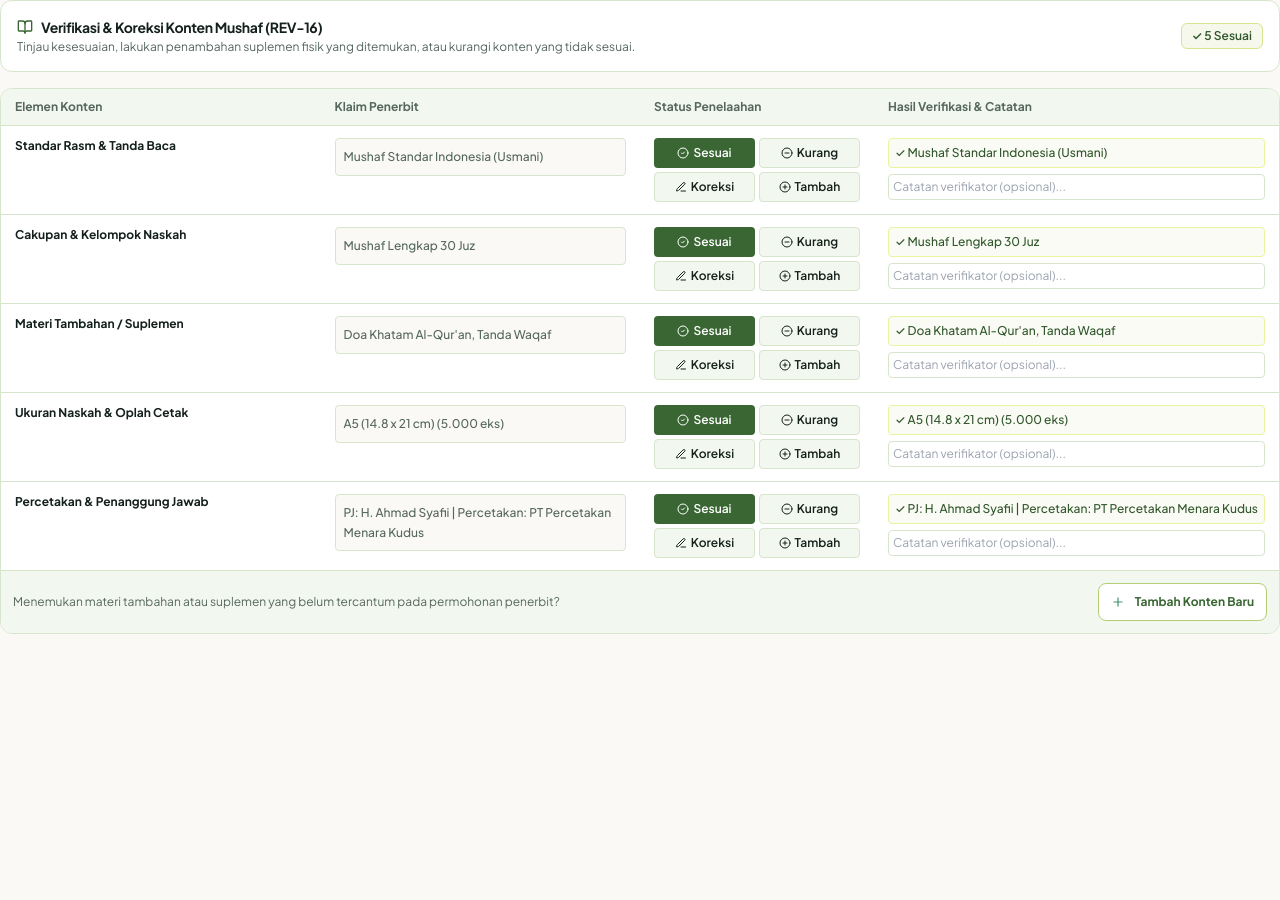
Test: MushafContentReviewTable (REV-16) › dapat menambahkan suplemen fisik tambahan yang ditemukan verifikator (TAMBAH)
// Open add item form
Click the button "Tambah Konten Baru" at (1182, 602), box [1098,583,1267,621]
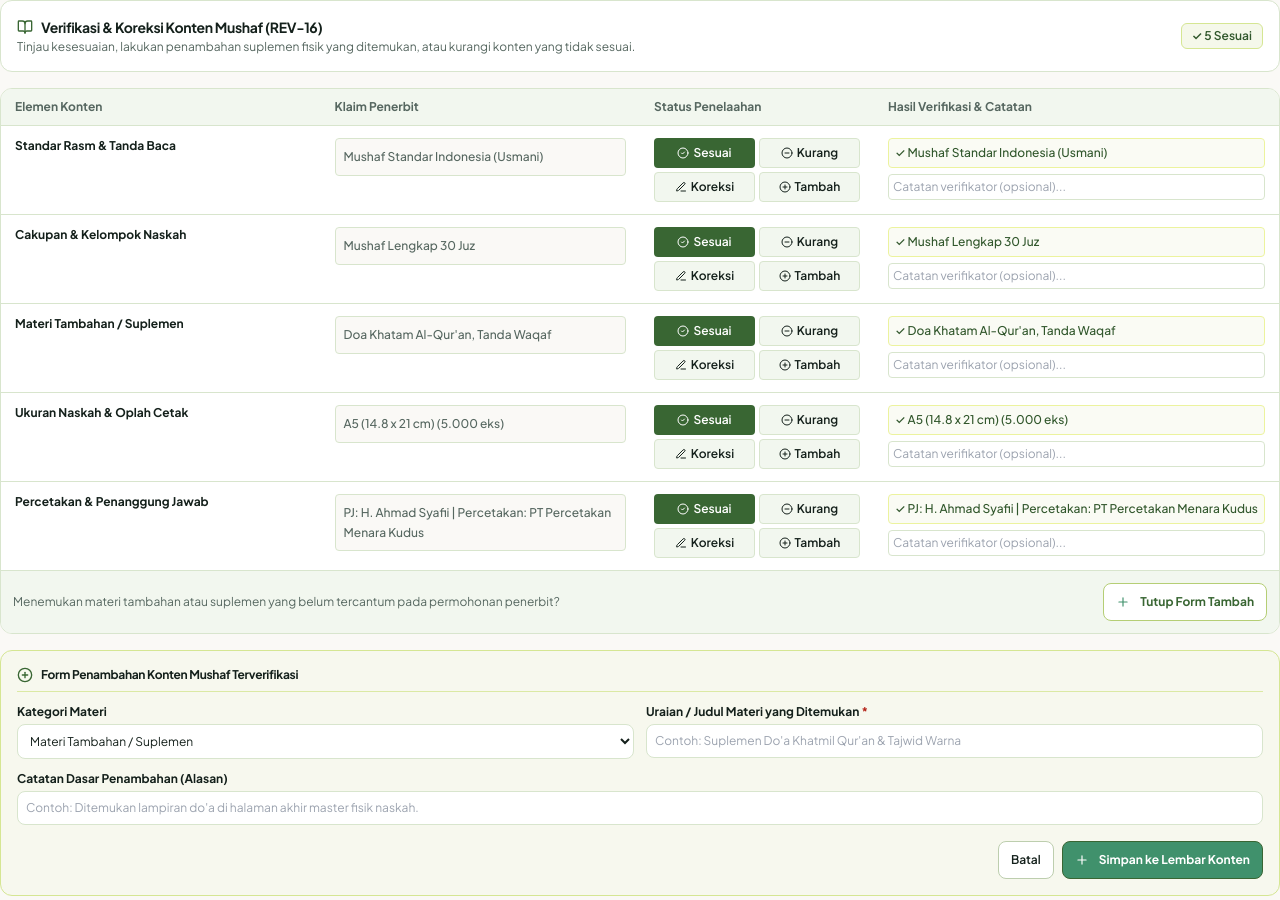
// Fill form
Type "Suplemen Dzikir Pagi Petang 16 Halaman" into the field with placeholder "Contoh: Suplemen Do'a Khatmil Qur'an & Tajwid Warna" at (954, 741), box [646,724,1263,758]
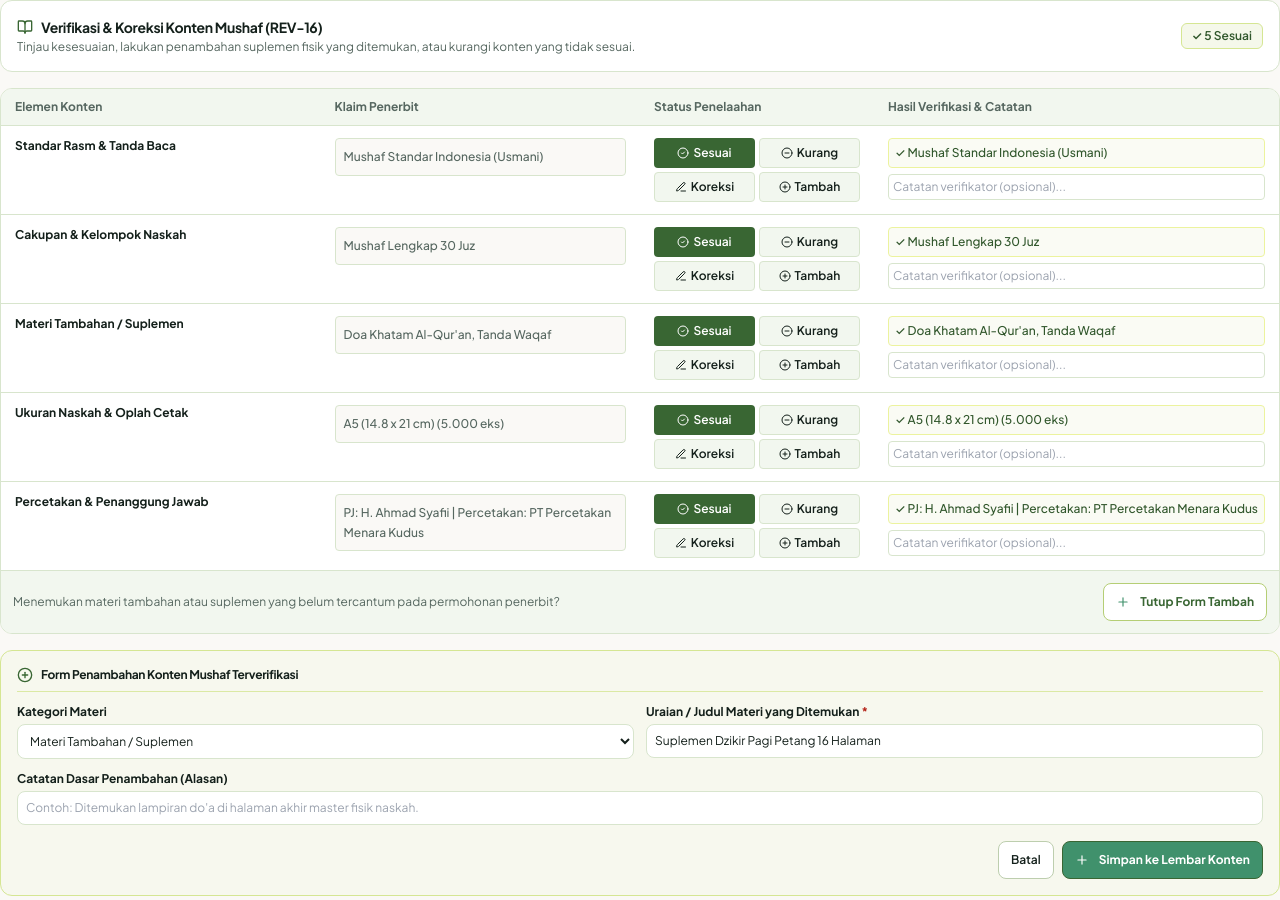
// Click submit
Click the button "Simpan ke Lembar Konten" at (1162, 860), box [1062,841,1263,879]
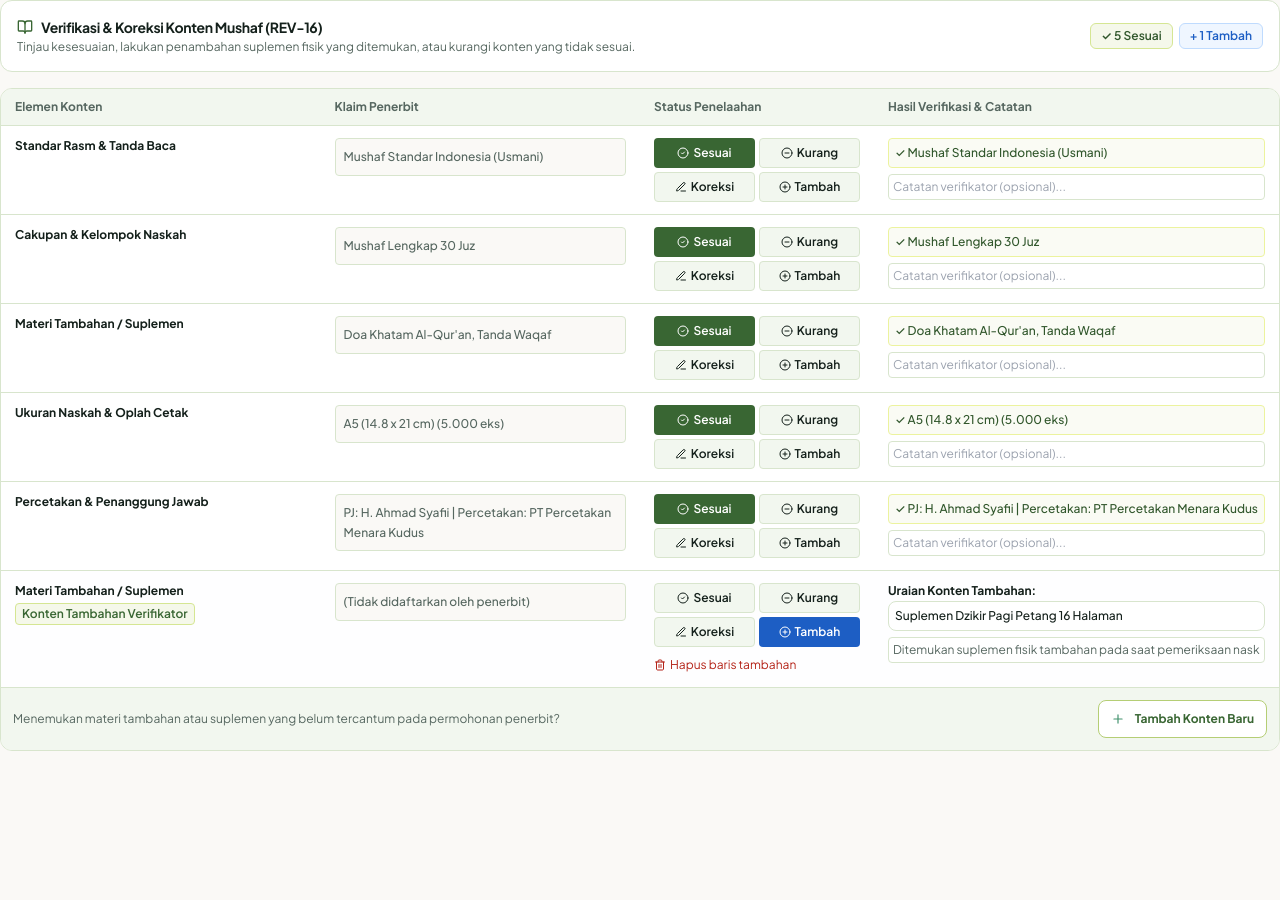
Expected: the field showing "Suplemen Dzikir Pagi Petang 16 Halaman" below "Uraian Konten Tambahan:" is shown, [888,601,1265,631]
Expected: the text "Konten Tambahan Verifikator" is shown, [15,603,195,625]
